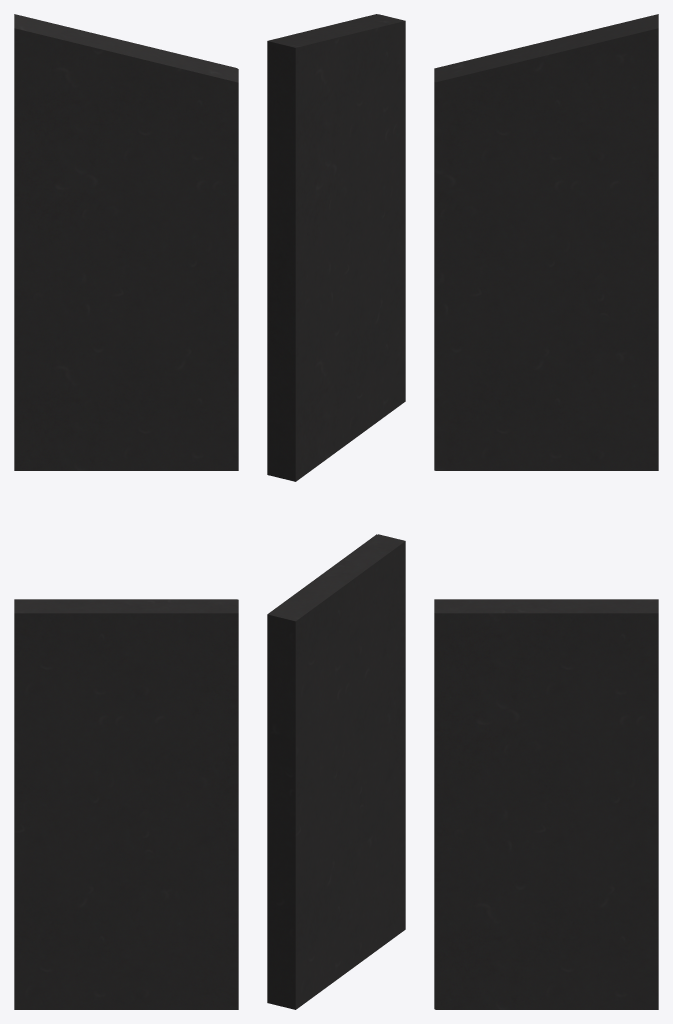
Rendered from A13.1.1 H.WALL. PNL 2178 UP + 1950 DWN E4.fbx.
The picture shows the model from 3 angles, left to right: view 1: azimuth 90°, elevation 25°; view 2: azimuth 150°, elevation 25°; view 3: azimuth 270°, elevation 25°; orthographic projection. The views are drawn at different scales.
Parts seen in each view (by area): view 1: Model, Group1; view 2: Model, Group1; view 3: Model, Group1.
Boxes of the visible parts, x1,y1,x2,y2 form: Model: (14,14,238,470); Group1: (14,599,238,1009); Model: (267,14,405,481); Group1: (267,534,405,1009); Model: (434,14,658,470); Group1: (434,599,658,1009).
Bounding box in the file's own units: 150 × 4828 × 1000.
